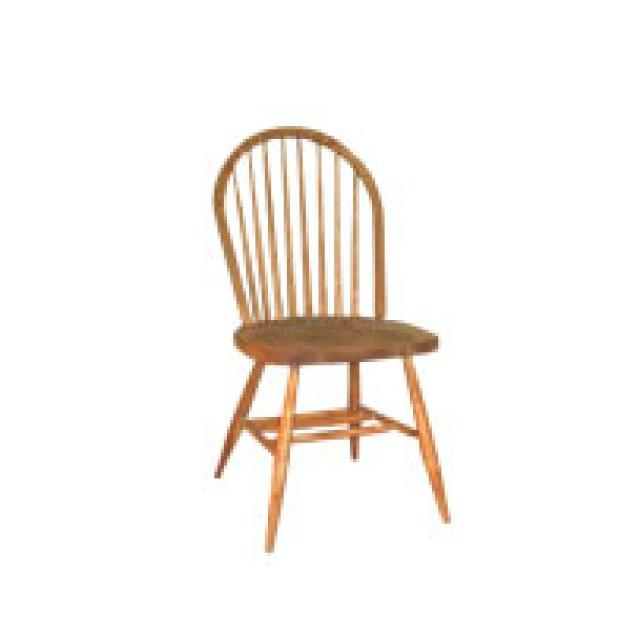chair: (208, 123, 451, 553)
